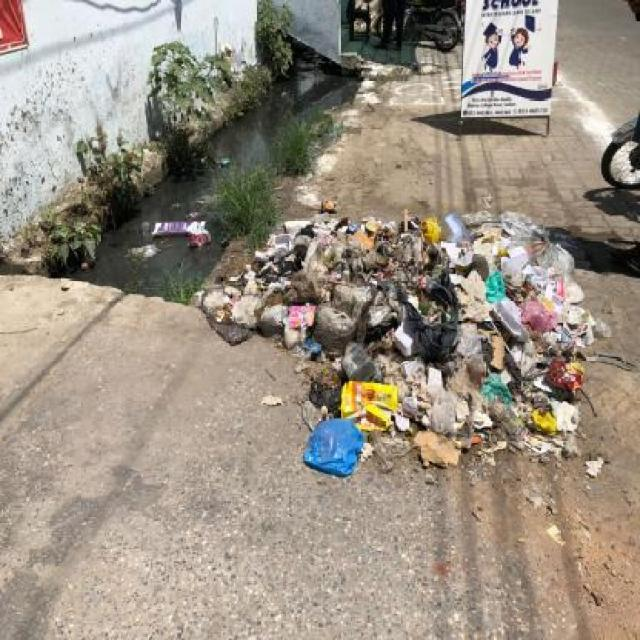garbage: (186, 194, 636, 499), (126, 217, 214, 263), (217, 151, 234, 172)
